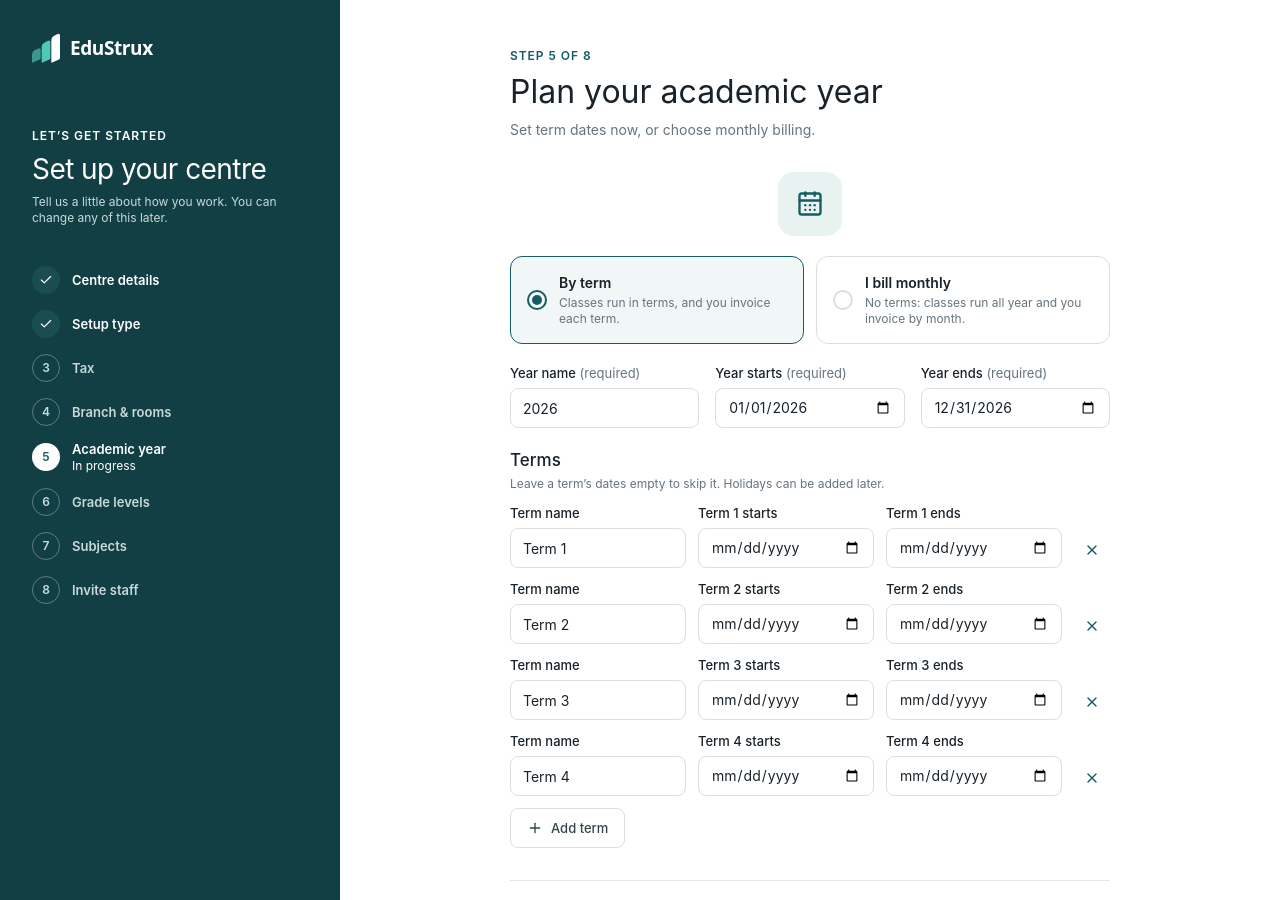
the setup wizard › saves the year and the terms with dates, then moves to grade levels
Replace the text in the field labelled "Year name (required)" with "2027". click: (605, 408)
box: [510,388,699,428]
Type "2027-01-25" into the date field labelled "Year starts (required)". click: (810, 408)
box: [715,388,905,428]
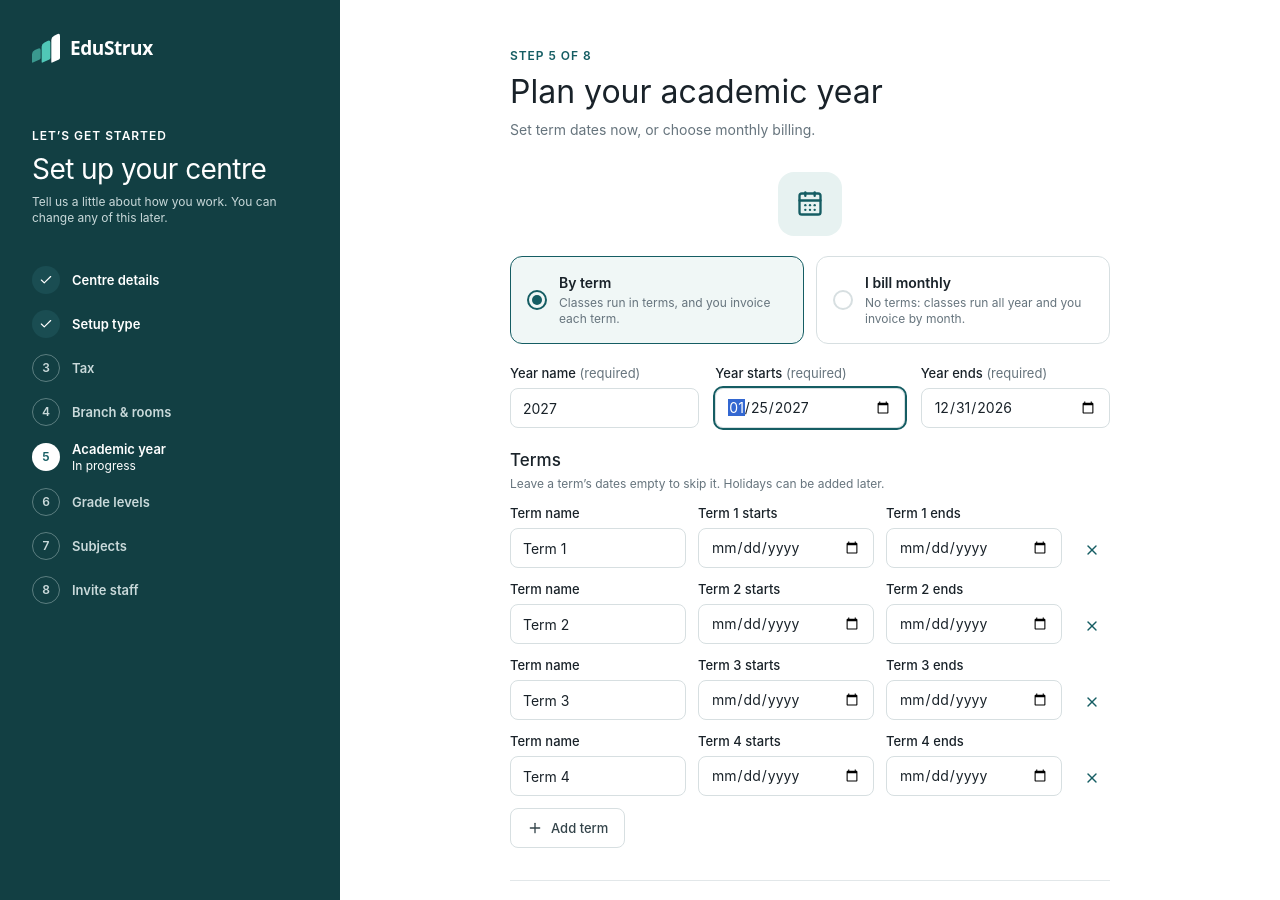
Type "2027-12-17" into the date field labelled "Year ends (required)". click: (1015, 408)
box: [921,388,1110,428]
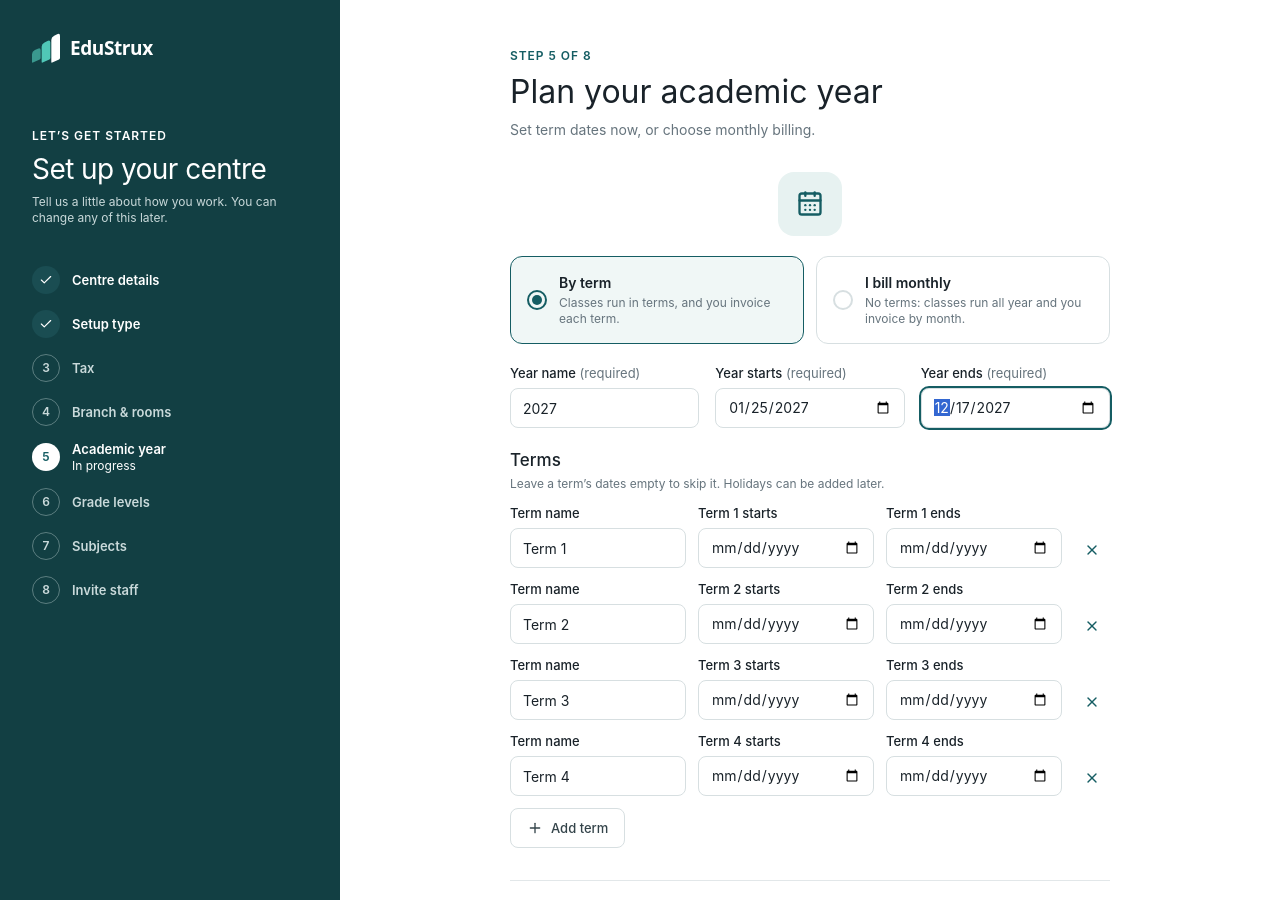
Type "2027-02-01" into the date field labelled "Term 1 starts". click: (786, 548)
box: [698,528,874,568]
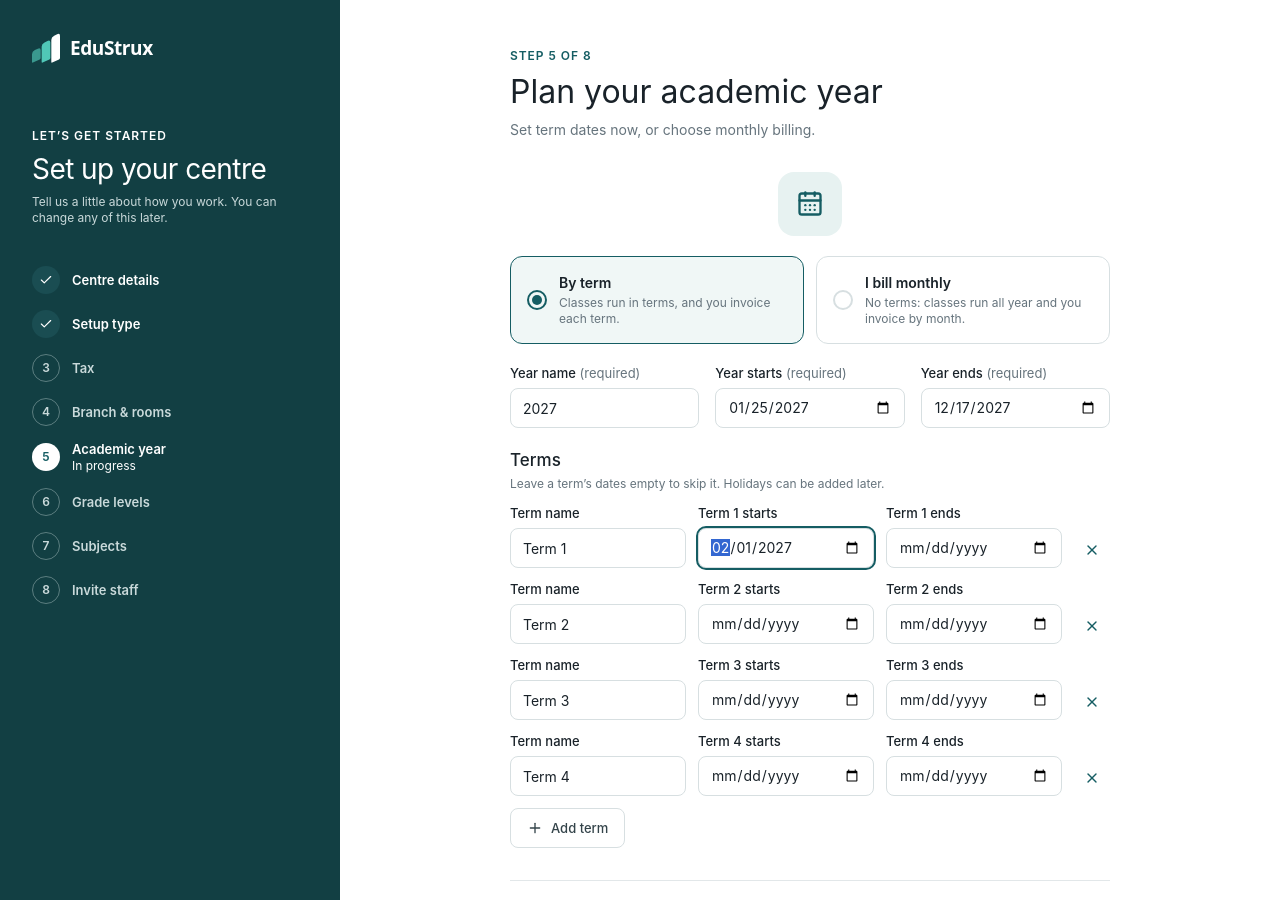
Type "2027-04-16" into the date field labelled "Term 1 ends". click: (974, 548)
box: [886,528,1062,568]
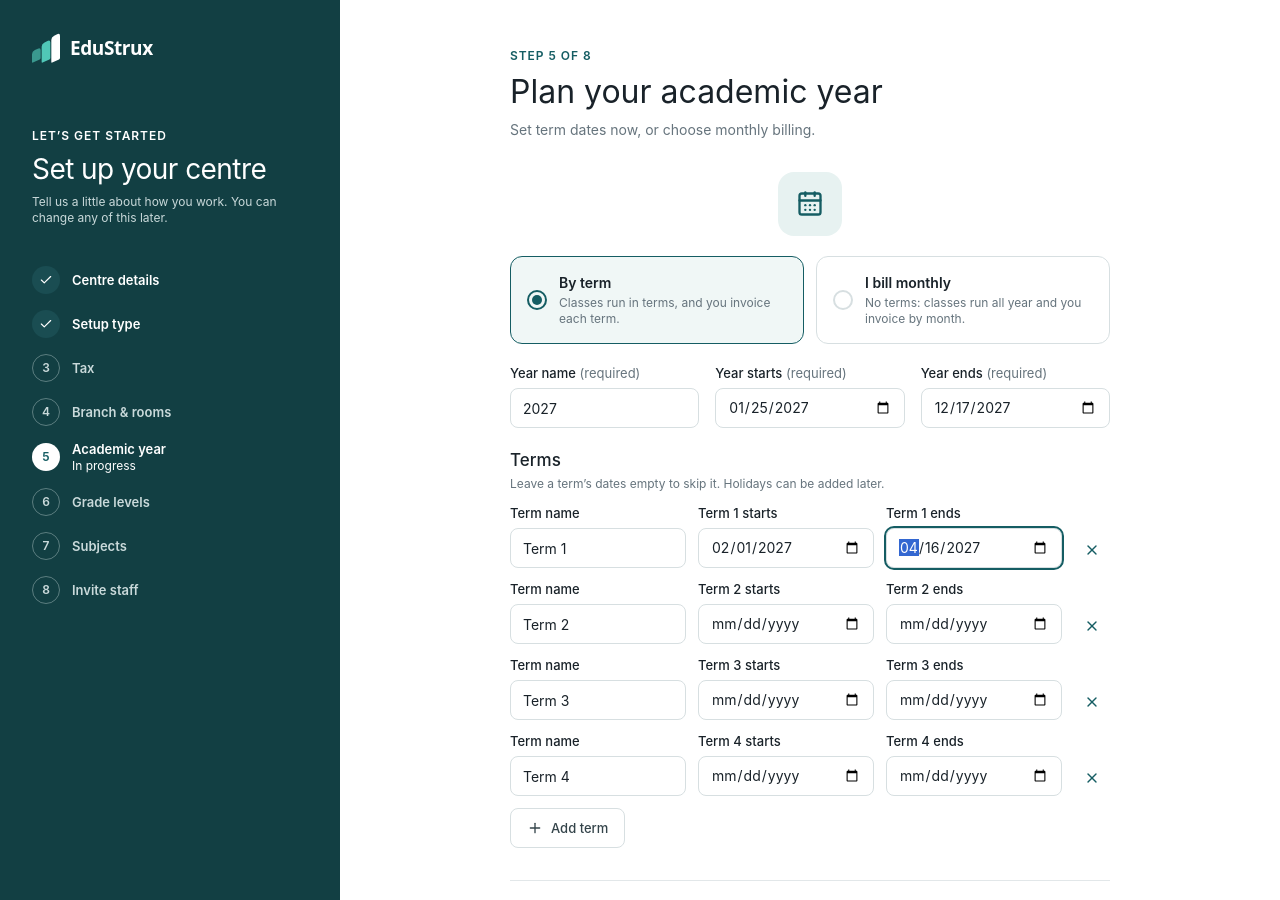
Click the button named "Remove Term 4". click: (1092, 778)
box: [1074,760,1110,796]
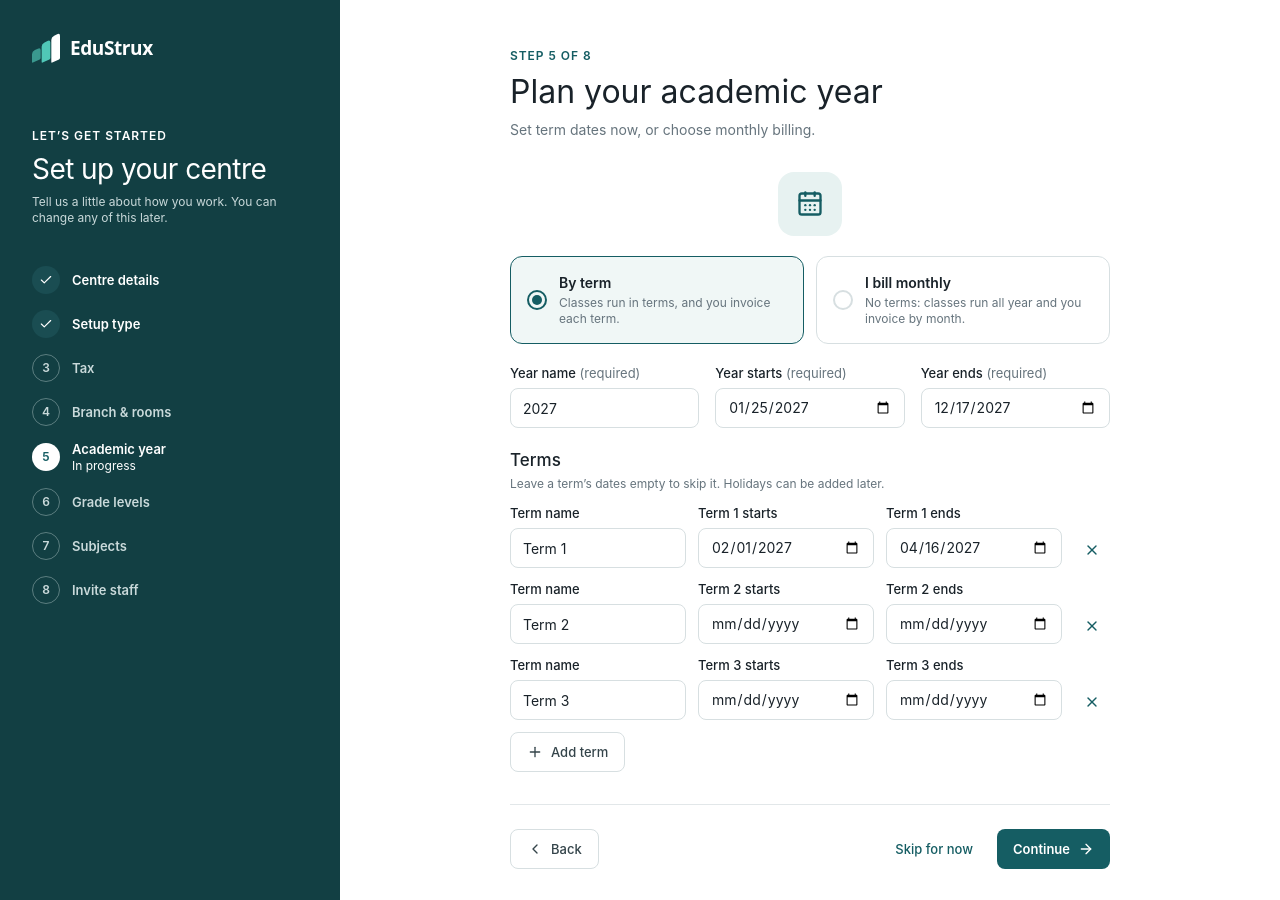
Click the button "Continue". click: (1054, 849)
box: [997,829,1110,869]
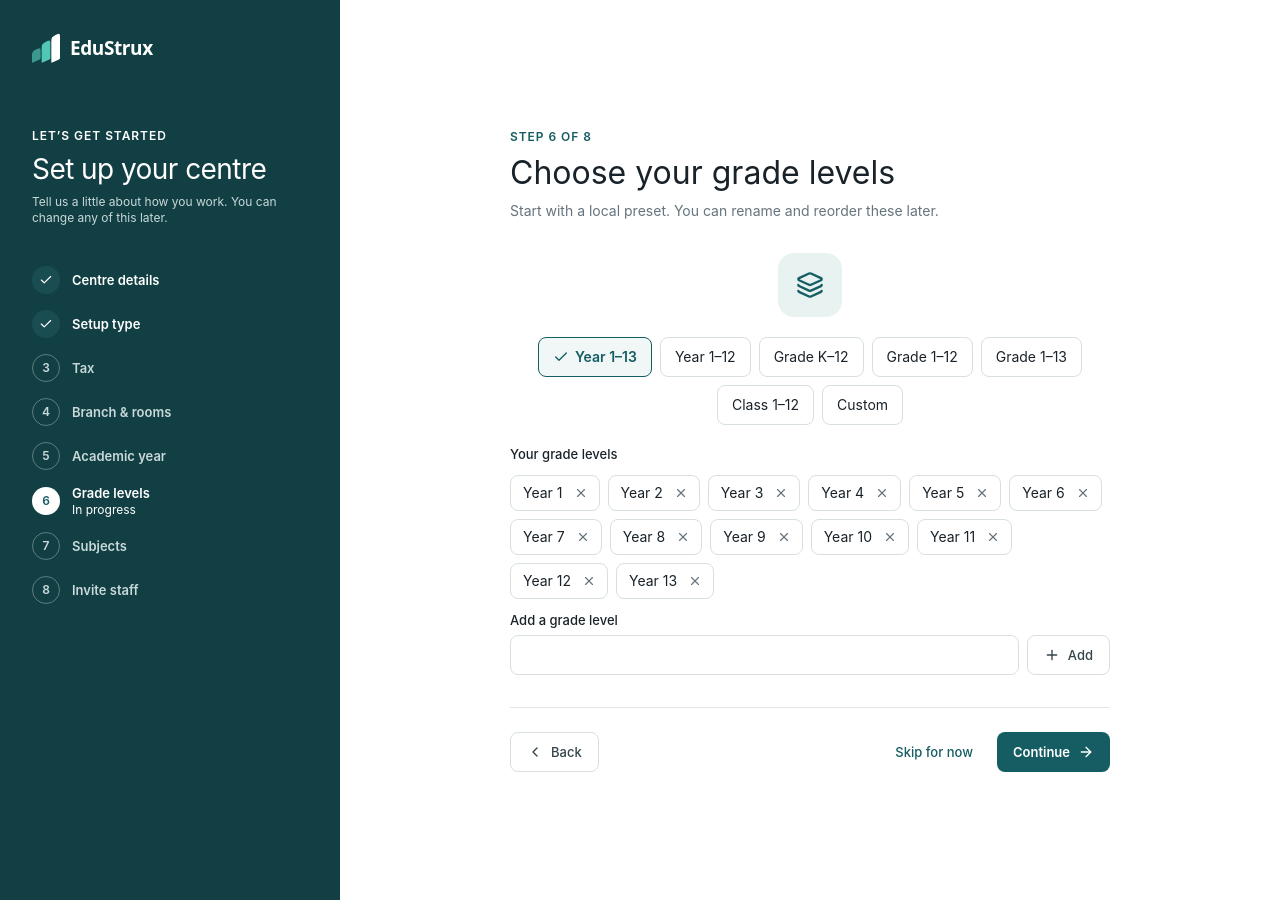
Now the heading "Choose your grade levels" is shown, box [510,152,895,192]
